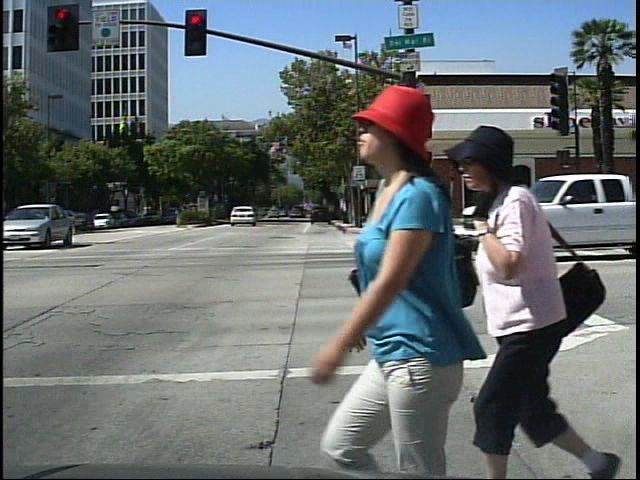person: (311, 65, 484, 478), (457, 117, 601, 480)
